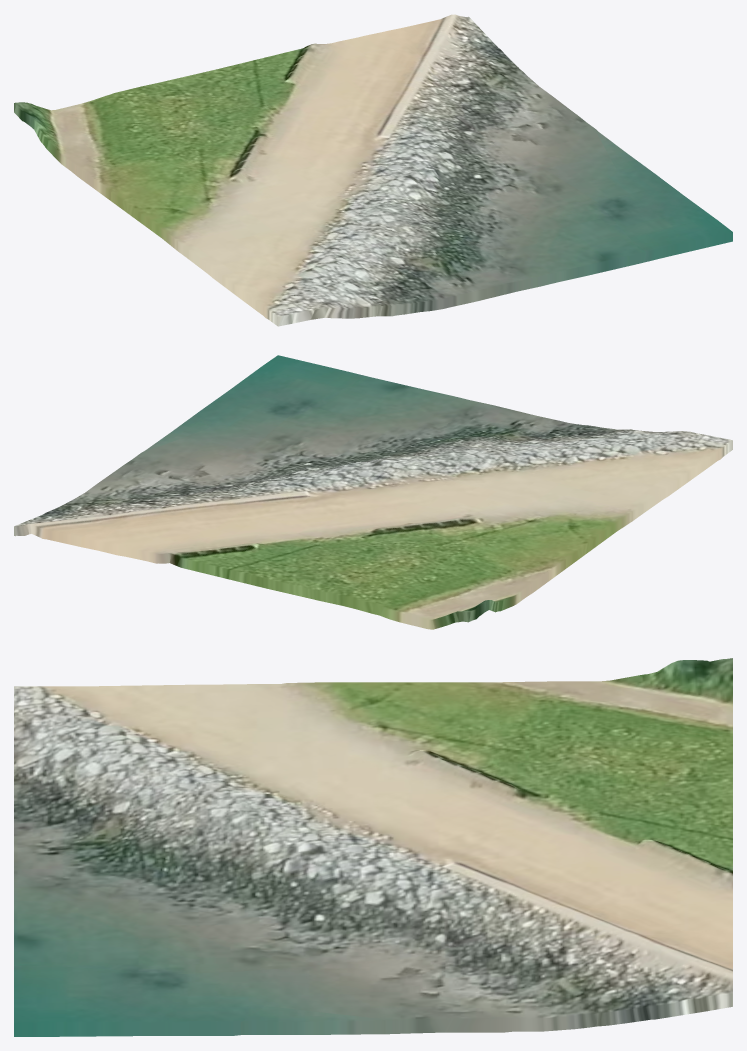
Rendered from z20-167568-405174-h0-yup-uvflip-v3-world.glb.
The picture shows the model from 3 angles, top to bottom: view 1: azimuth 30°, elevation 25°; view 2: azimuth 150°, elevation 25°; view 3: azimuth 270°, elevation 25°; orthographic projection. The views are drawn at different scales.
Bounding box in the file's own units: 30.16 × 3.56 × 30.32.
Materials: 1 (1 with a texture image).
